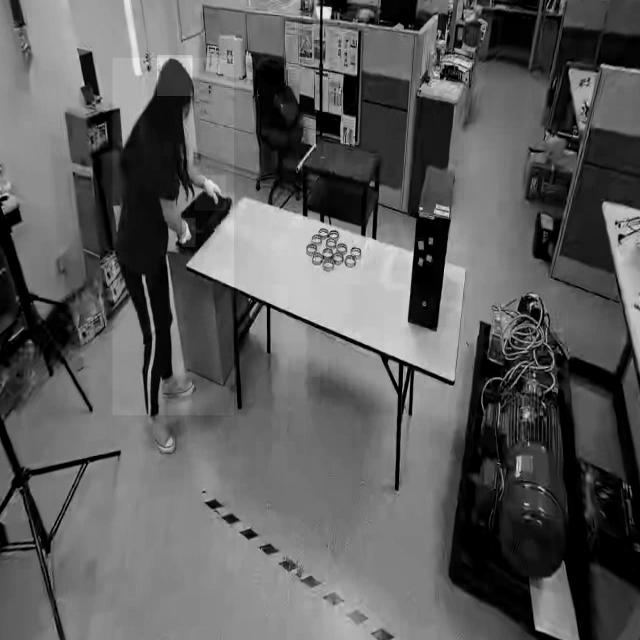hand_glove: (194, 175, 226, 211), (182, 218, 196, 247)
head_nohelmet: (157, 55, 193, 97)
person: (113, 58, 235, 416)
shoes: (142, 412, 177, 462), (160, 371, 200, 408)
